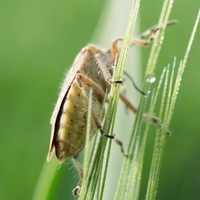insect: (33, 157, 57, 199)
